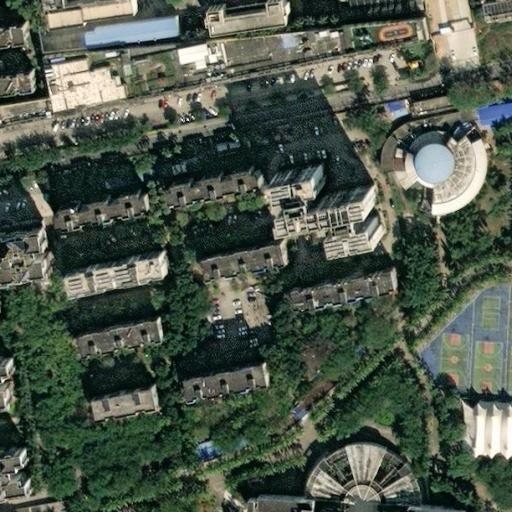building: (379, 115, 482, 217), (300, 436, 423, 500), (123, 39, 229, 102), (42, 52, 132, 119), (224, 34, 332, 82), (48, 185, 145, 226), (151, 166, 248, 207), (58, 266, 159, 305), (283, 274, 386, 312), (323, 22, 423, 61), (74, 11, 169, 47), (67, 325, 153, 364), (195, 249, 279, 288), (180, 372, 261, 411), (276, 178, 353, 217), (471, 397, 512, 457), (83, 396, 146, 425), (309, 207, 358, 240), (280, 160, 328, 190), (0, 446, 29, 491), (471, 101, 512, 127), (46, 5, 86, 31), (409, 90, 453, 113), (389, 500, 473, 512), (229, 500, 302, 512), (382, 94, 412, 118), (9, 499, 64, 512), (0, 367, 15, 414), (0, 30, 25, 53), (23, 33, 43, 50)
